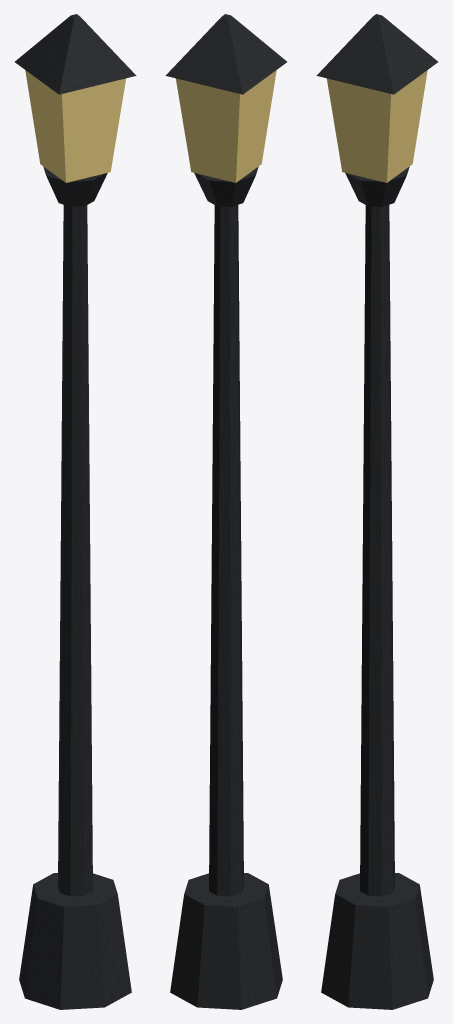
File: street-lamp-lod0.glb
3 views of the same model, side by side, from view 1: azimuth 30°, elevation 25°; view 2: azimuth 150°, elevation 25°; view 3: azimuth 330°, elevation 25° (orthographic).
Visible parts, largest first — view 1: street-lamp-lod0; view 2: street-lamp-lod0; view 3: street-lamp-lod0.
Part boxes in pixels (x1,y1,x2,y2): street-lamp-lod0: [15, 14, 136, 1009]; street-lamp-lod0: [165, 14, 286, 1009]; street-lamp-lod0: [316, 14, 437, 1009].
Bounding box in the file's own units: 0.48 × 4.4 × 0.48.
1 material, 1 textured.
